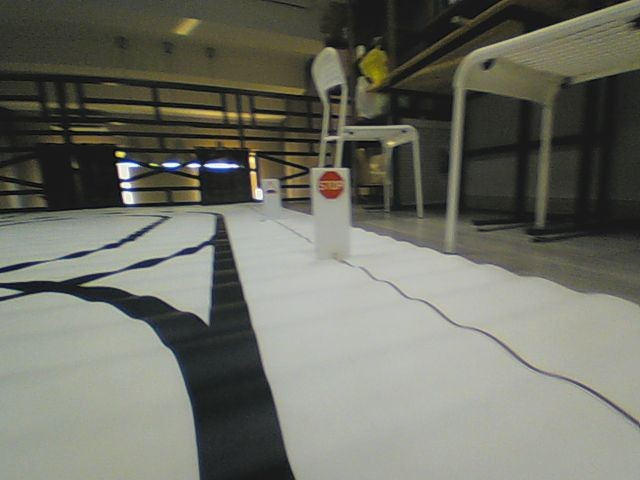Stop: (317, 169, 345, 200)
